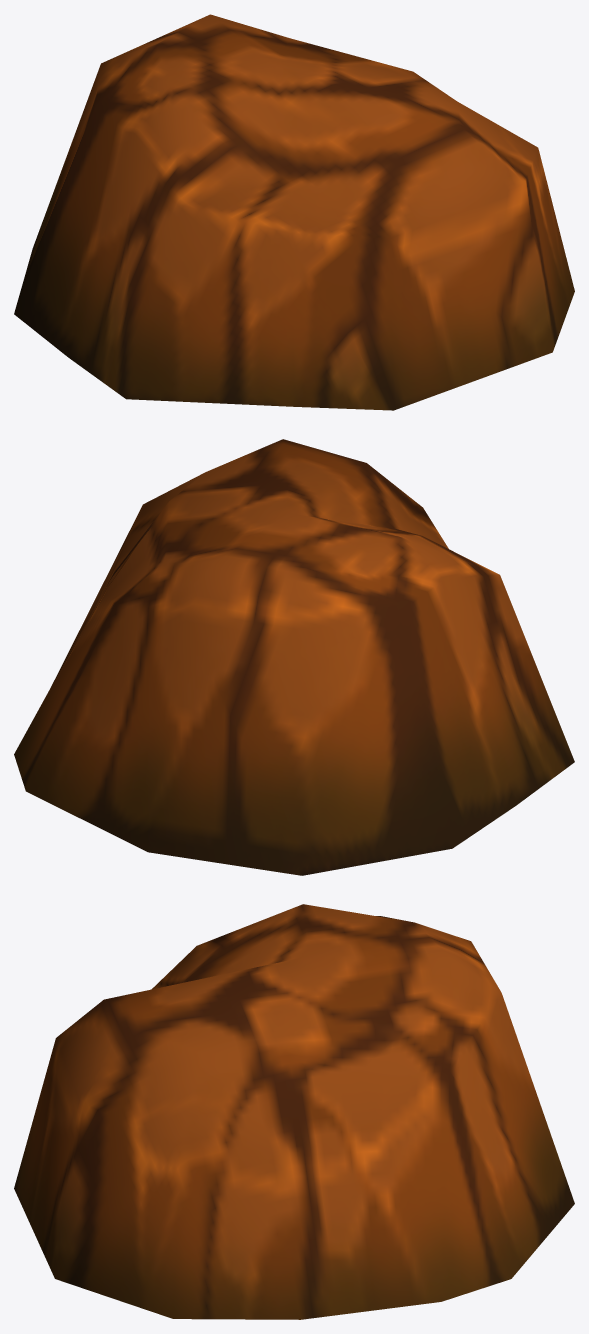
File: Rock_03.FBX
3 views of the same model, one above another, from view 1: azimuth 30°, elevation 25°; view 2: azimuth 150°, elevation 25°; view 3: azimuth 270°, elevation 25° (orthographic). The views are drawn at different scales.
Parts seen in each view (by area): view 1: Rock_03; view 2: Rock_03; view 3: Rock_03.
Part boxes in pixels (box(x1,y1,x2,y2)): Rock_03: box(14, 14, 574, 410); Rock_03: box(14, 439, 574, 875); Rock_03: box(14, 904, 574, 1319).
Size of the model in its own units: 98.76 by 49.37 by 103.
